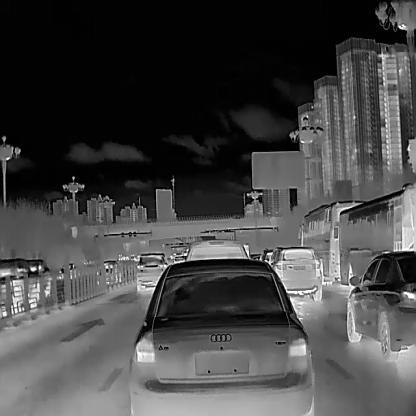car: (124, 255, 315, 415), (331, 179, 415, 296), (345, 247, 416, 362), (297, 198, 371, 286), (266, 244, 322, 301), (0, 256, 51, 315), (187, 237, 249, 261), (136, 251, 169, 289), (96, 259, 121, 284), (57, 262, 80, 280), (259, 248, 274, 262), (174, 252, 184, 262)
